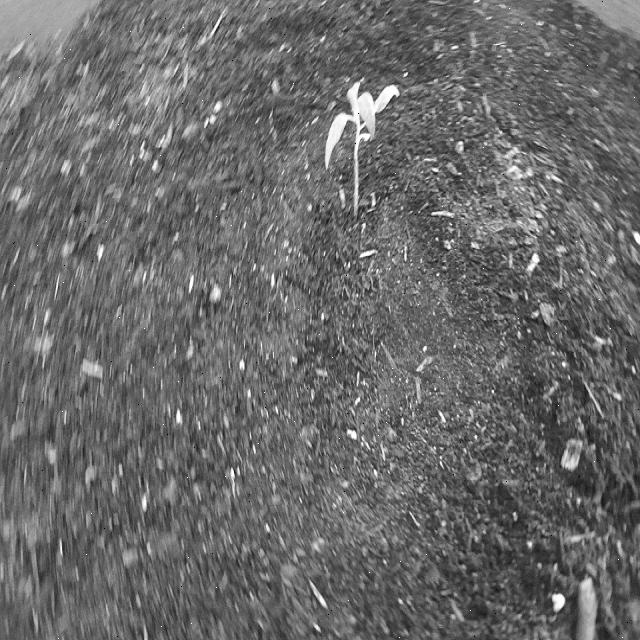Healthy: (324, 75, 400, 222)
